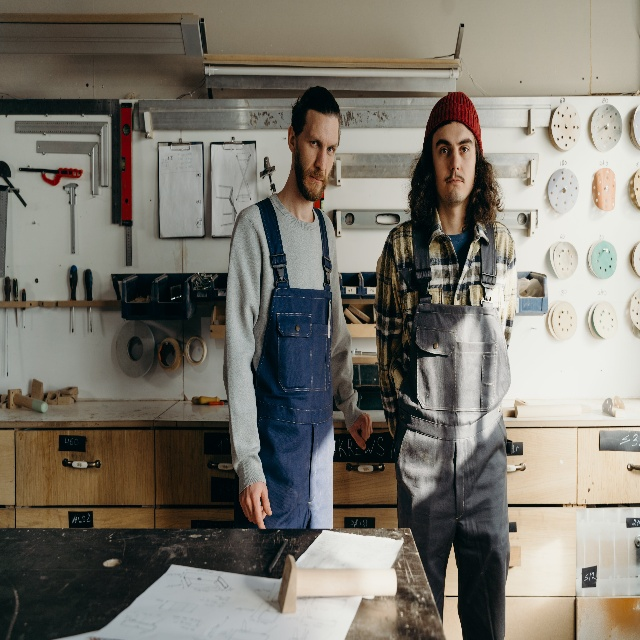Sin_guantes: (238, 480, 272, 529), (349, 408, 374, 450)
